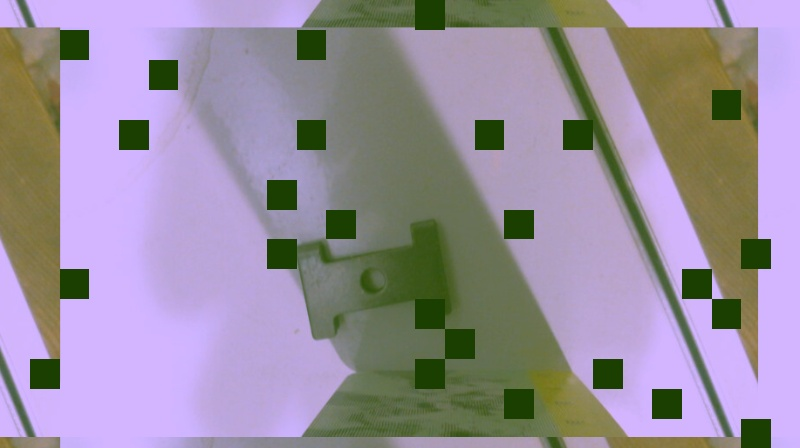O002: (292, 216, 453, 341)
